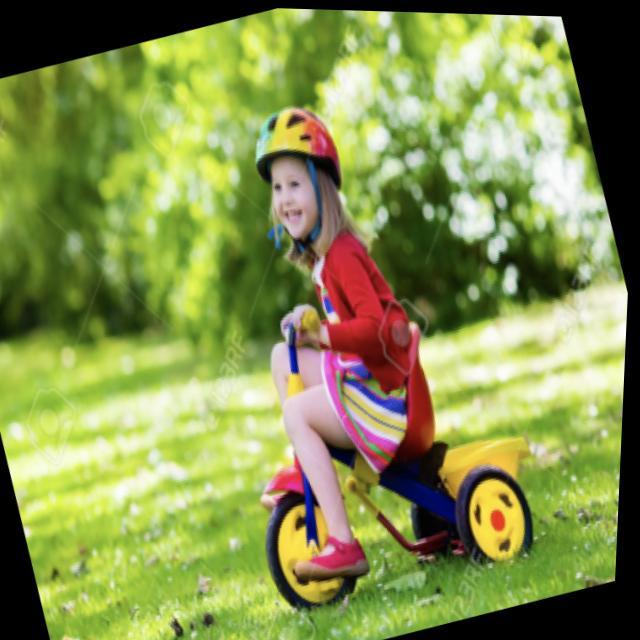Helmet: (243, 96, 341, 253)
